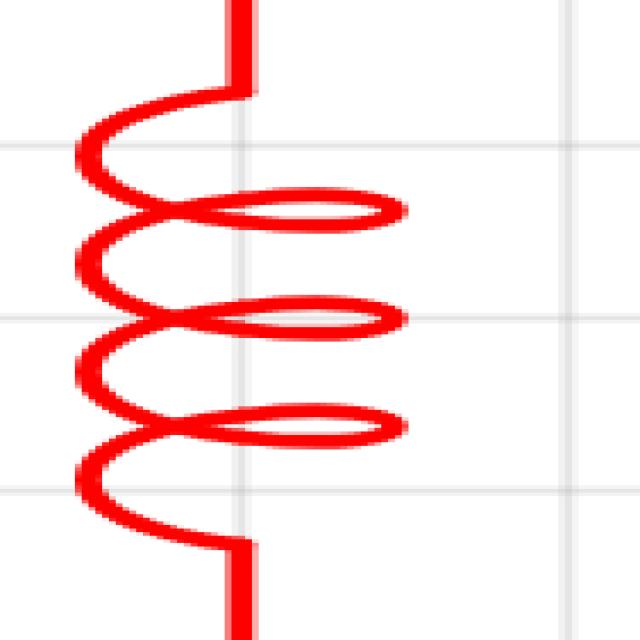inductor: (12, 15, 586, 634)
